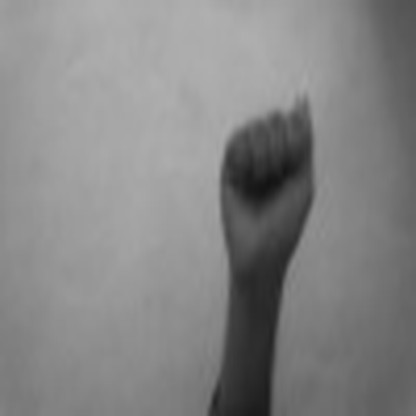a: (212, 88, 321, 271)
